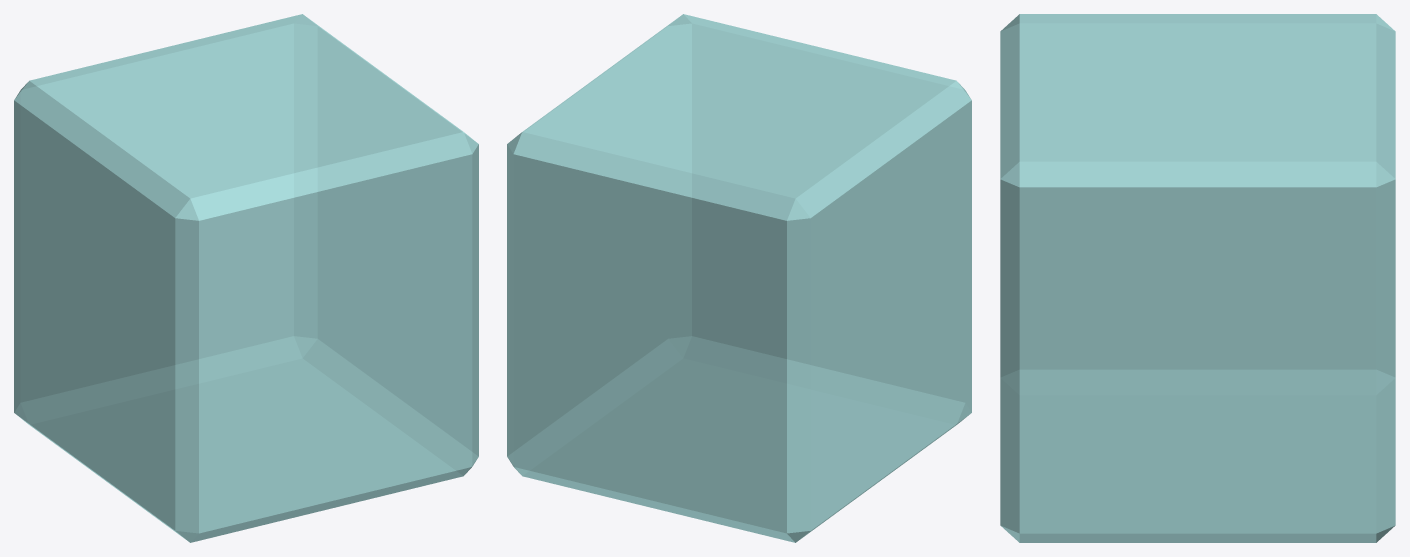
The model's file is ice cube.fbx.
The picture shows the model from 3 angles, left to right: view 1: azimuth 30°, elevation 25°; view 2: azimuth 150°, elevation 25°; view 3: azimuth 270°, elevation 25°; orthographic projection. The views are drawn at different scales.
Parts seen in each view (by area): view 1: pCube9; view 2: pCube9; view 3: pCube9.
Boxes of the visible parts, bbox=[...] form: pCube9: bbox=[14, 14, 478, 542]; pCube9: bbox=[507, 14, 971, 542]; pCube9: bbox=[1000, 14, 1395, 542].
Bounding box in the file's own units: 2.01 × 2.18 × 2.05.
